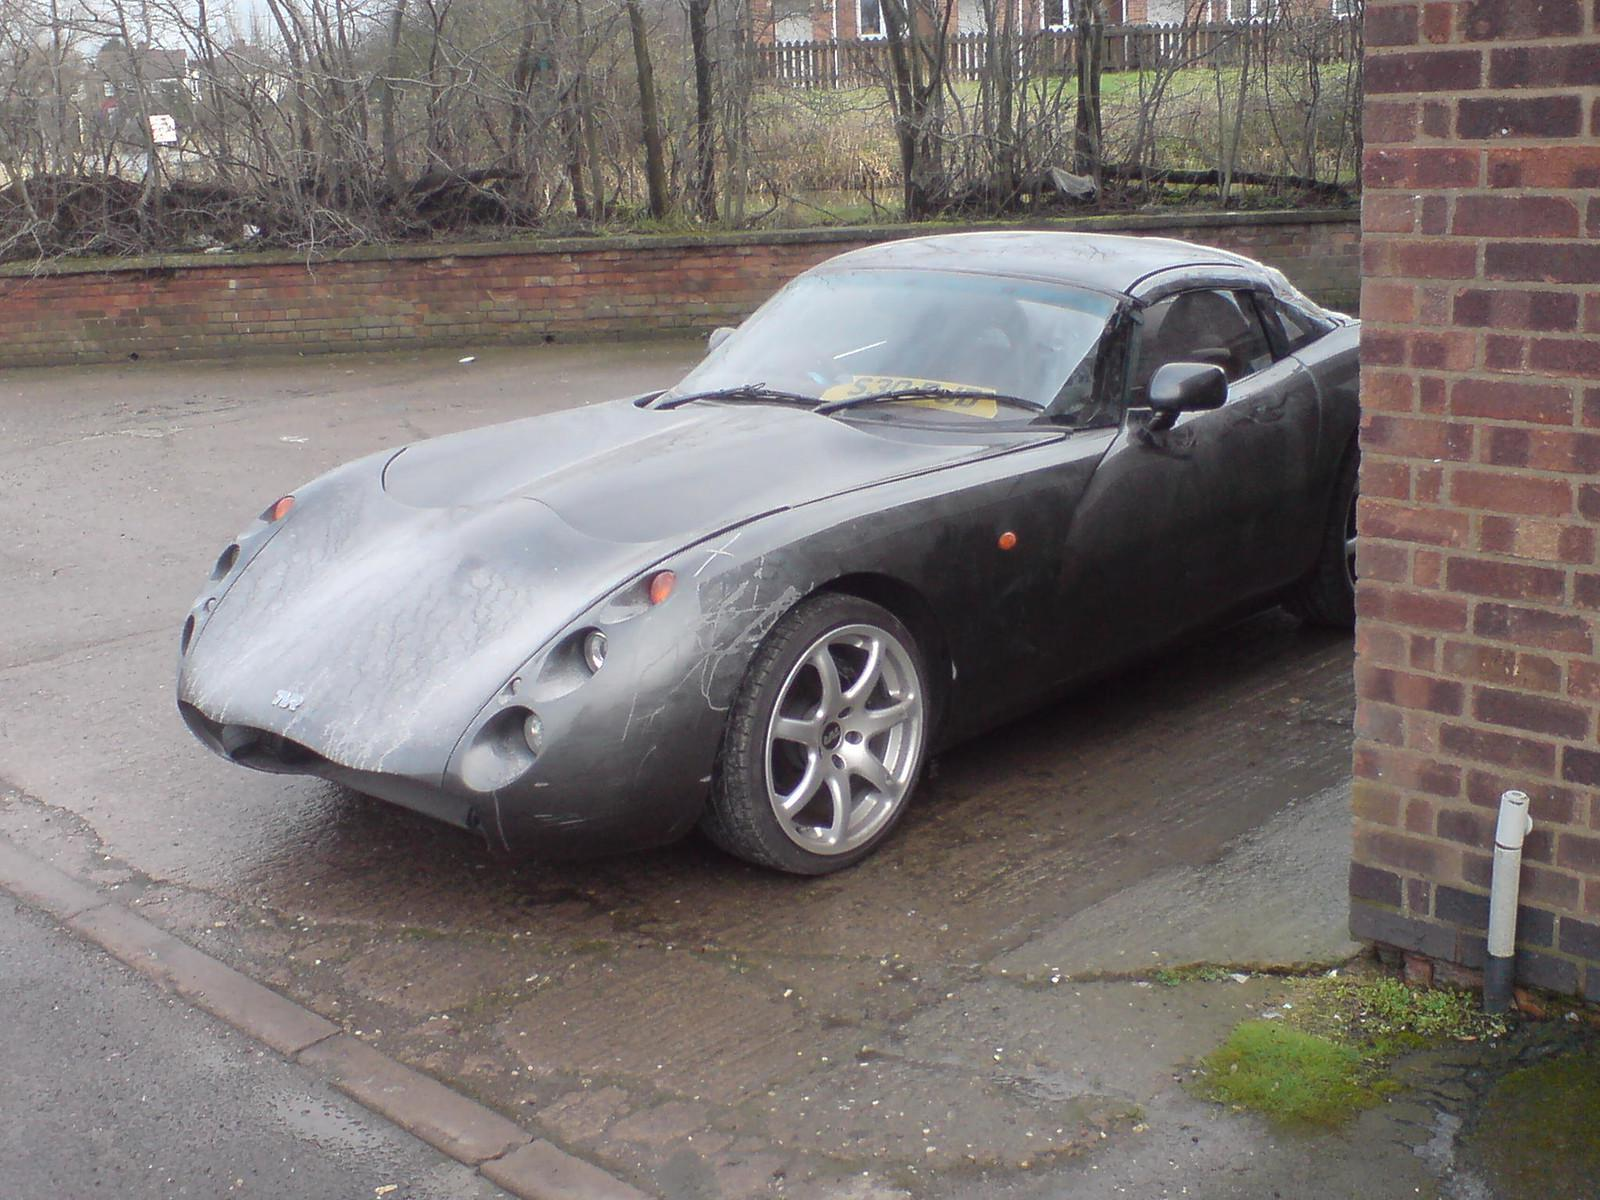fender-dent: (658, 523, 873, 763)
